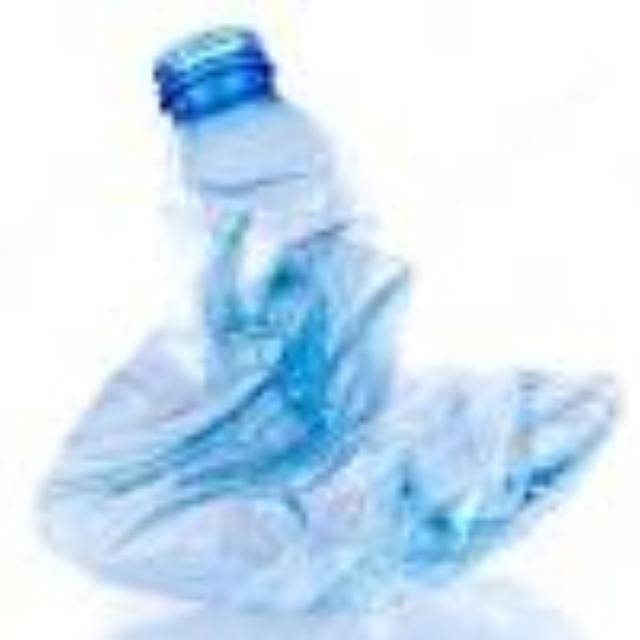trash: (44, 10, 616, 640)
